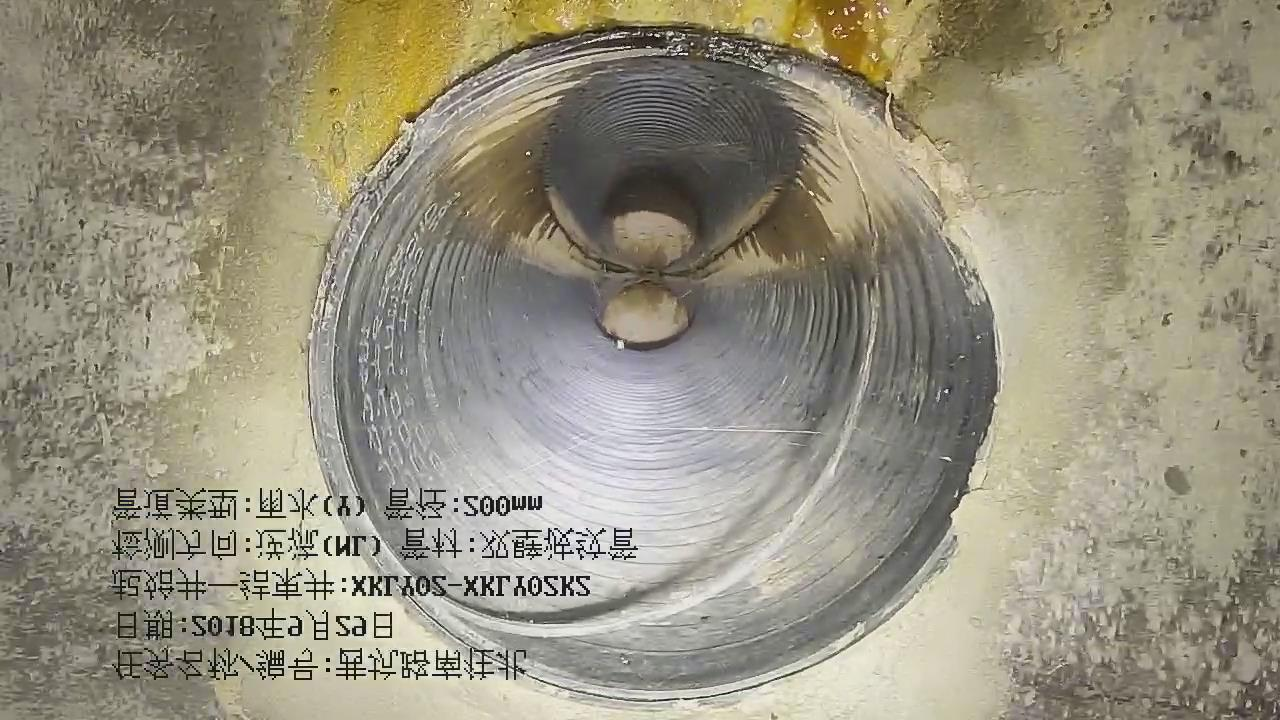JKCL: (376, 101, 889, 648)
